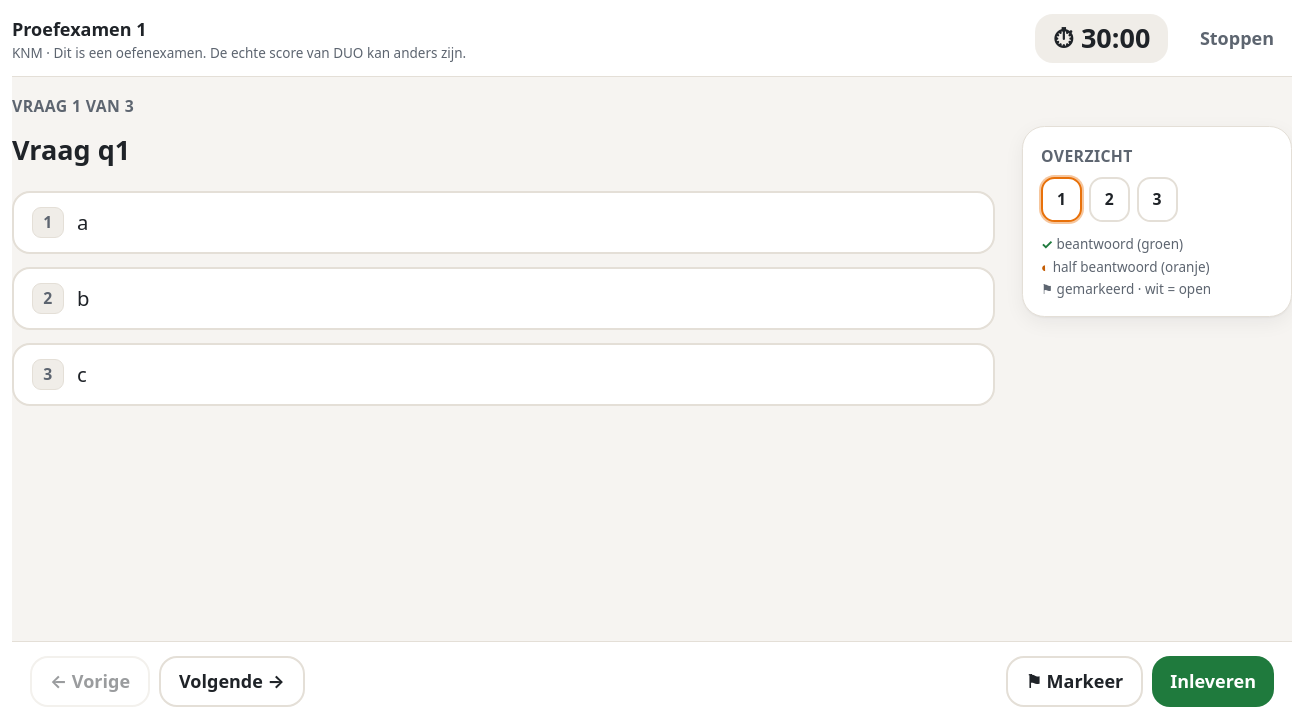
moving around › the overview jumps to a question; Vorige/Volgende stop at the ends
Expected: the button "← Vorige" is disabled, [30, 656, 150, 706]
Step 1. Click the button "3" → (1157, 199), box [1136, 176, 1178, 222]
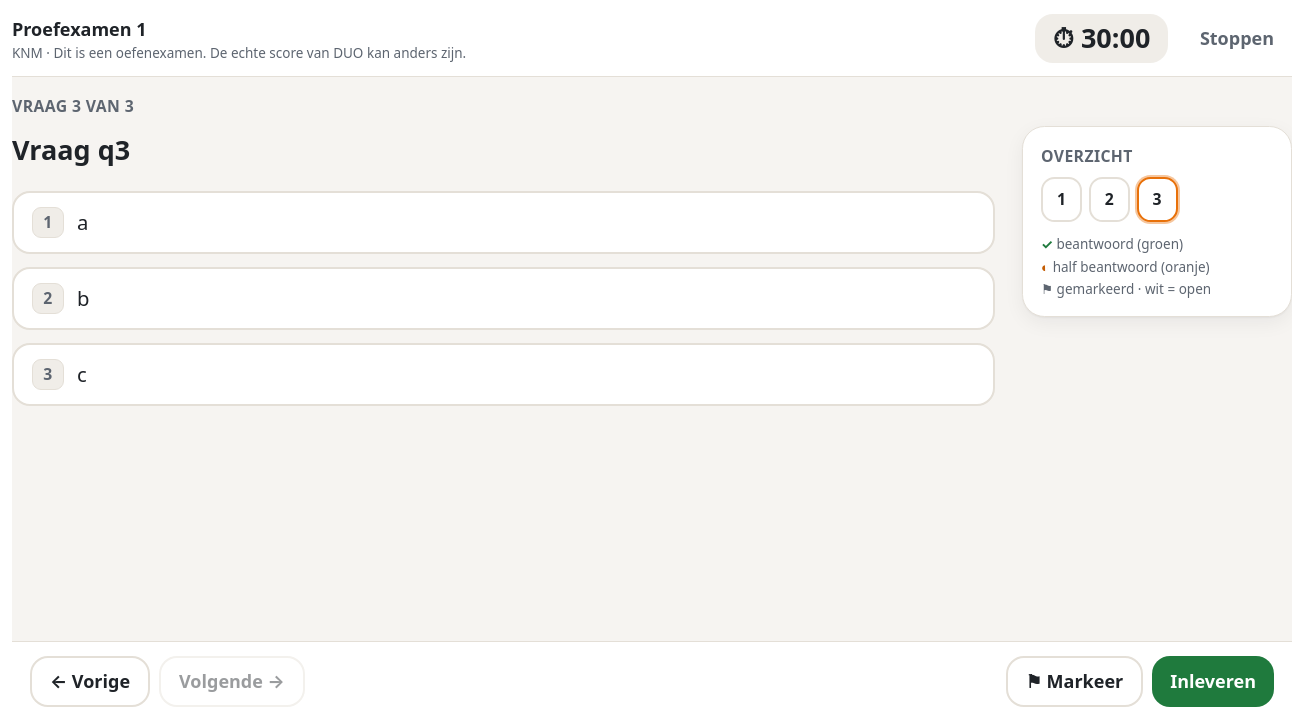
Expected: the text "Vraag 3 van 3" is shown, [12, 96, 134, 118]
Expected: the button "Volgende →" is disabled, [159, 656, 305, 706]
